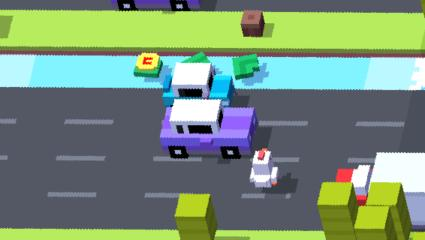hen: (250, 149, 280, 190)
obstacle: (340, 152, 425, 227), (160, 99, 260, 160), (161, 63, 233, 110), (320, 180, 358, 240), (372, 183, 411, 240), (175, 193, 217, 240), (354, 205, 403, 240), (110, 0, 202, 14), (240, 10, 265, 37)
timber: (134, 52, 162, 78), (233, 55, 259, 80), (184, 53, 210, 63)
